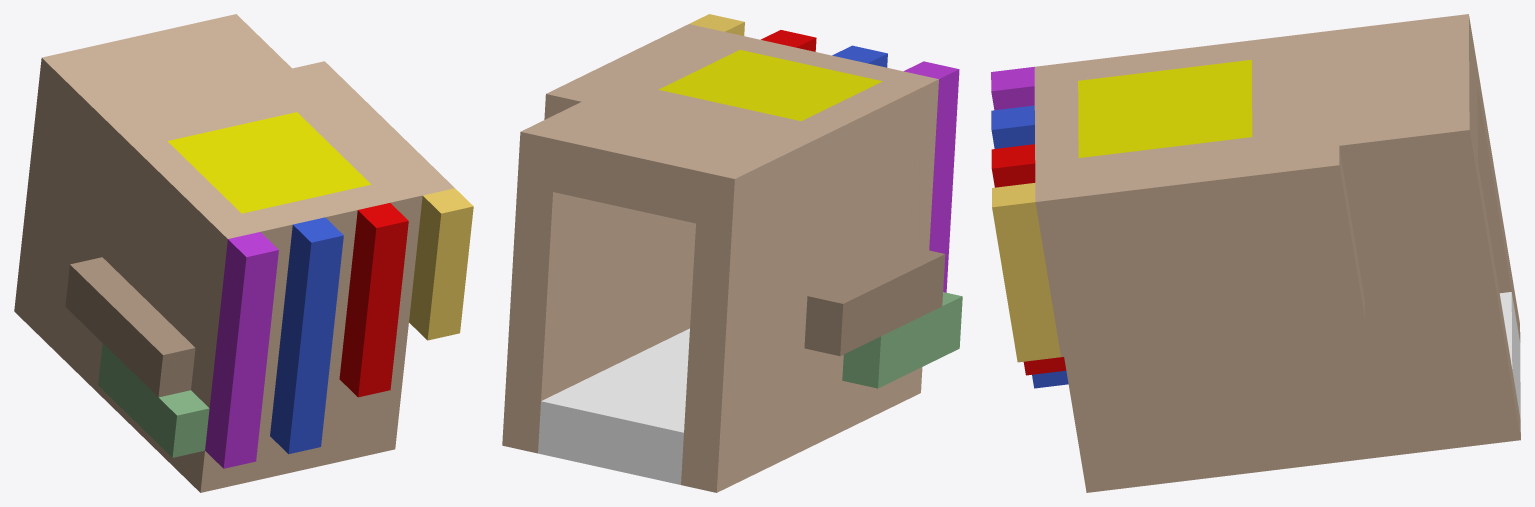
The model's file is donnie_gauntlet.gltf.
3 renders of one model, left to right at view 1: azimuth 30°, elevation 25°; view 2: azimuth 150°, elevation 25°; view 3: azimuth 270°, elevation 25°, orthographic. The views are drawn at different scales.
Visible parts, largest first — view 1: cube_9, cube, cube_8, cube_2, cube_1, cube_6, cube_3, cube_10, cube_4, cube_5, cube_11, cube_12; view 2: cube_9, cube_5, cube_8, cube_7, cube_10, cube_6, cube, cube_11, cube_1, cube_12, cube_4, cube_2 (+1 smaller); view 3: cube_5, cube_12, cube_8, cube_6, cube, cube_9, cube_4, cube_3, cube_2, cube_1, cube_7.
Part boxes in pixels (left/top/right/bottom): cube_9: left=14, top=50, right=241, bottom=474; cube: left=182, top=177, right=422, bottom=492; cube_8: left=74, top=21, right=296, bottom=140; cube_2: left=270, top=217, right=343, bottom=454; cube_1: left=205, top=232, right=278, bottom=468; cube_6: left=167, top=112, right=370, bottom=213; cube_3: left=339, top=203, right=408, bottom=397; cube_10: left=65, top=257, right=195, bottom=397; cube_4: left=409, top=188, right=473, bottom=340; cube_5: left=204, top=14, right=403, bottom=184; cube_11: left=98, top=343, right=209, bottom=457; cube_12: left=292, top=61, right=454, bottom=195; cube_9: left=681, top=81, right=918, bottom=492; cube_5: left=502, top=42, right=739, bottom=453; cube_8: left=553, top=89, right=800, bottom=223; cube_7: left=538, top=328, right=689, bottom=484; cube_10: left=804, top=246, right=945, bottom=355; cube_6: left=658, top=50, right=882, bottom=120; cube: left=704, top=32, right=938, bottom=402; cube_11: left=842, top=292, right=962, bottom=388; cube_1: left=904, top=61, right=959, bottom=292; cube_12: left=544, top=24, right=723, bottom=119; cube_4: left=689, top=14, right=744, bottom=35; cube_2: left=832, top=45, right=887, bottom=67; cube_5: left=1078, top=110, right=1520, bottom=487; cube_12: left=1035, top=146, right=1364, bottom=357; cube_8: left=1251, top=33, right=1477, bottom=160; cube_6: left=1078, top=59, right=1252, bottom=157; cube: left=1034, top=61, right=1129, bottom=492; cube_9: left=1078, top=14, right=1520, bottom=342; cube_4: left=992, top=183, right=1060, bottom=362; cube_3: left=991, top=144, right=1066, bottom=375; cube_2: left=991, top=105, right=1068, bottom=388; cube_1: left=991, top=66, right=1034, bottom=110; cube_7: left=1499, top=292, right=1520, bottom=418.
Size of the model in its own units: 0.5112 by 0.5869 by 0.7596.
